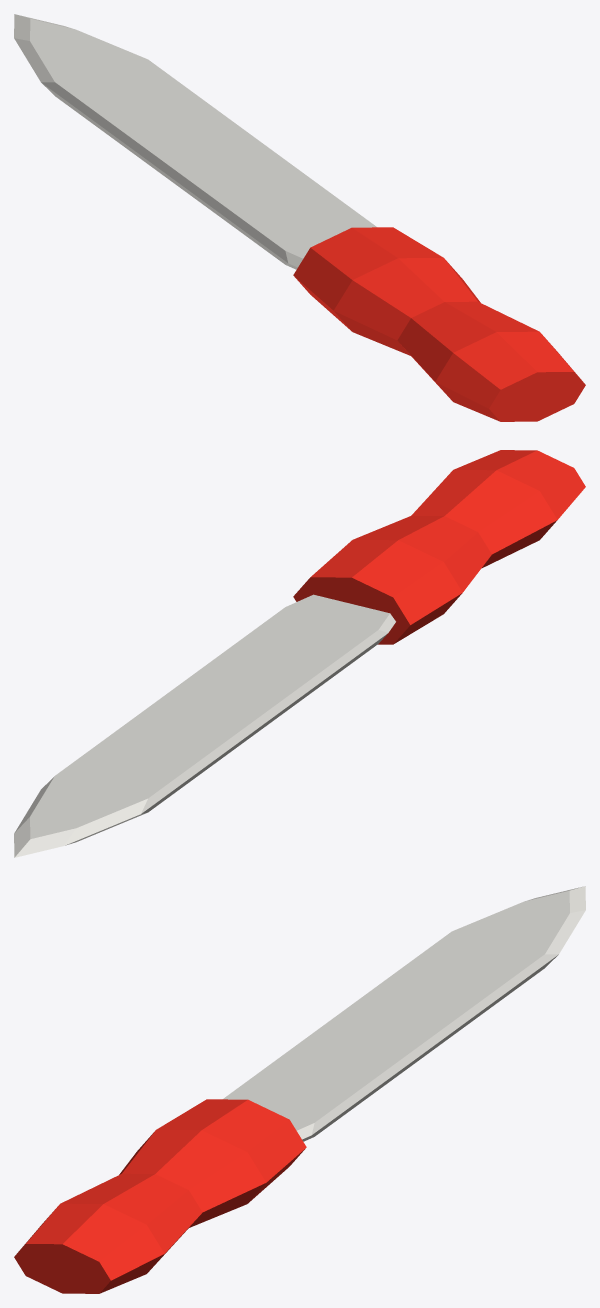
File: knife-type-02.obj
3 views of the same model, one above another, from view 1: azimuth 30°, elevation 25°; view 2: azimuth 150°, elevation 25°; view 3: azimuth 330°, elevation 25° (orthographic).
Parts seen in each view (by area): view 1: knife-type-02; view 2: knife-type-02; view 3: knife-type-02.
Boxes of the visible parts, x1=… form: knife-type-02: x1=14, y1=14, x2=585, y2=421; knife-type-02: x1=14, y1=450, x2=585, y2=857; knife-type-02: x1=14, y1=886, x2=585, y2=1293.
Bounding box in the file's own units: 0.0348 × 0.0189 × 0.2436.
